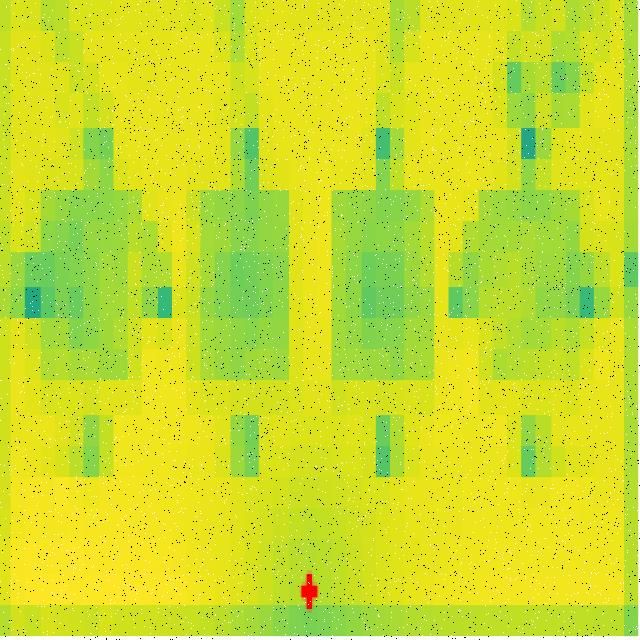Concrete: (479, 190, 582, 386)
Glass: (331, 192, 436, 383)
Metal: (40, 190, 142, 414)
Wood: (199, 193, 291, 382)
